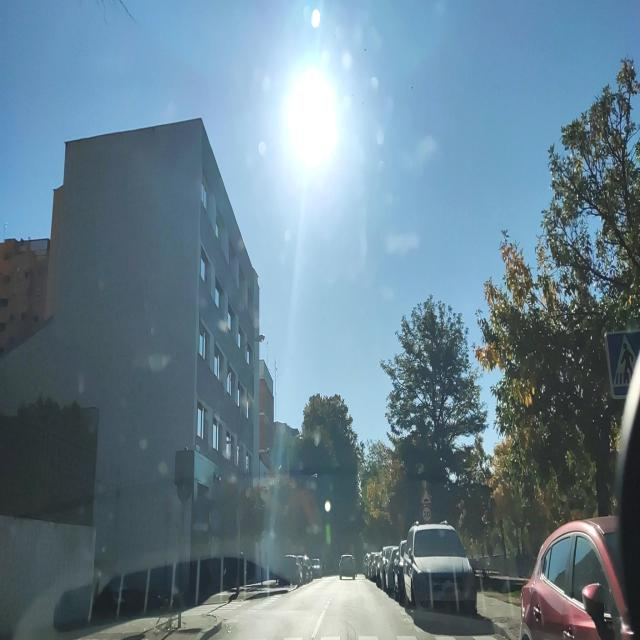car: (519, 513, 639, 638), (401, 521, 477, 614), (390, 539, 408, 600), (377, 544, 397, 590), (382, 544, 398, 592), (280, 554, 303, 586), (338, 552, 356, 580), (299, 554, 313, 582), (369, 552, 382, 582), (311, 556, 322, 578)
